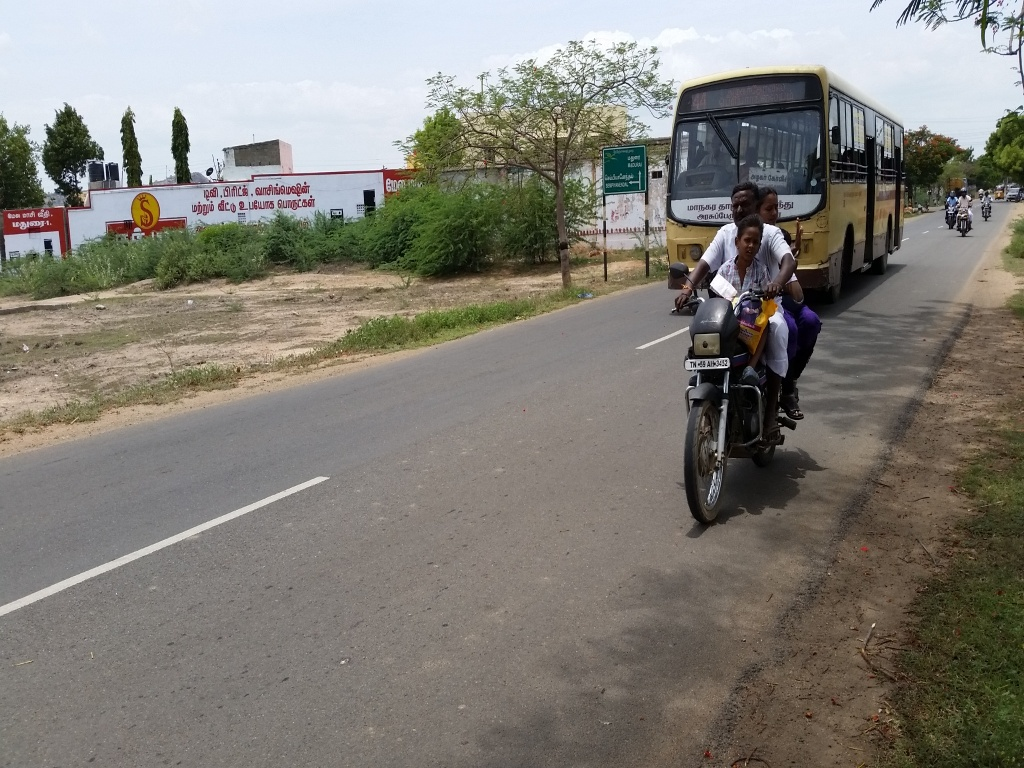biker: (656, 153, 838, 542)
nohelmet: (726, 177, 764, 229), (731, 230, 766, 265), (761, 182, 785, 233)
